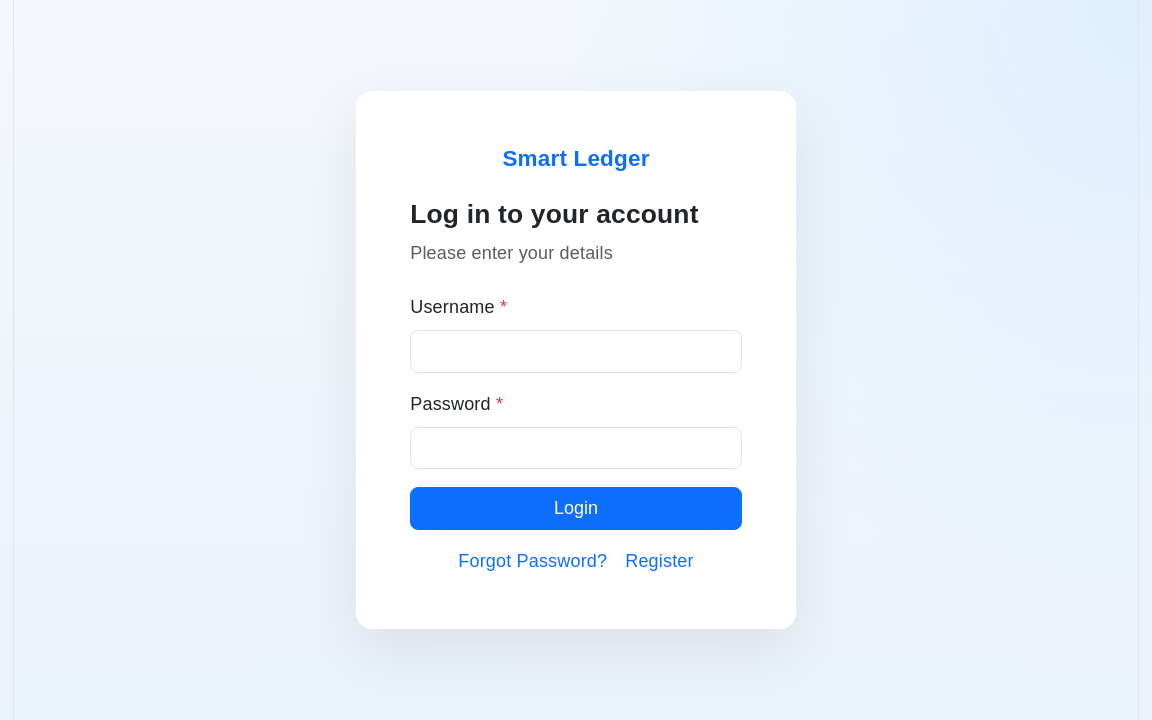
it: Login › shows API error message on failed login
This screenshot has width=1152, height=720.
Type "demo" into the field labelled "Username *" at (576, 351), box [410,330,742,373]
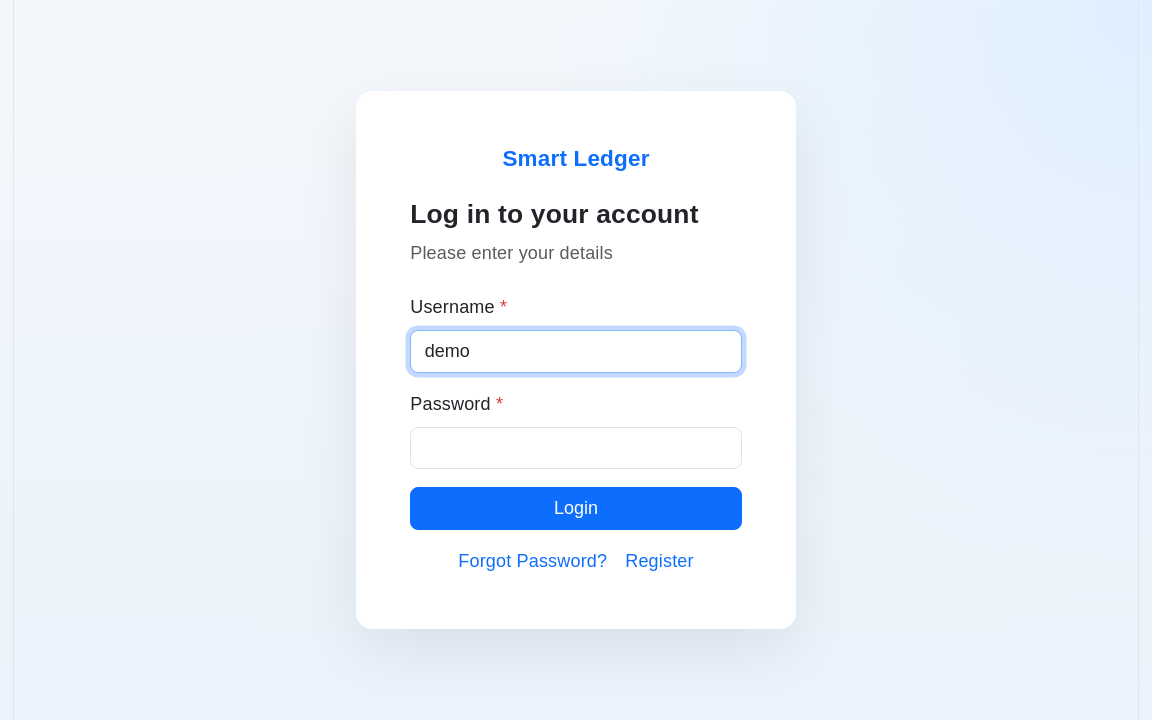
Type "wrong" into the password field labelled "Password *" at (576, 448), box [410,427,742,469]
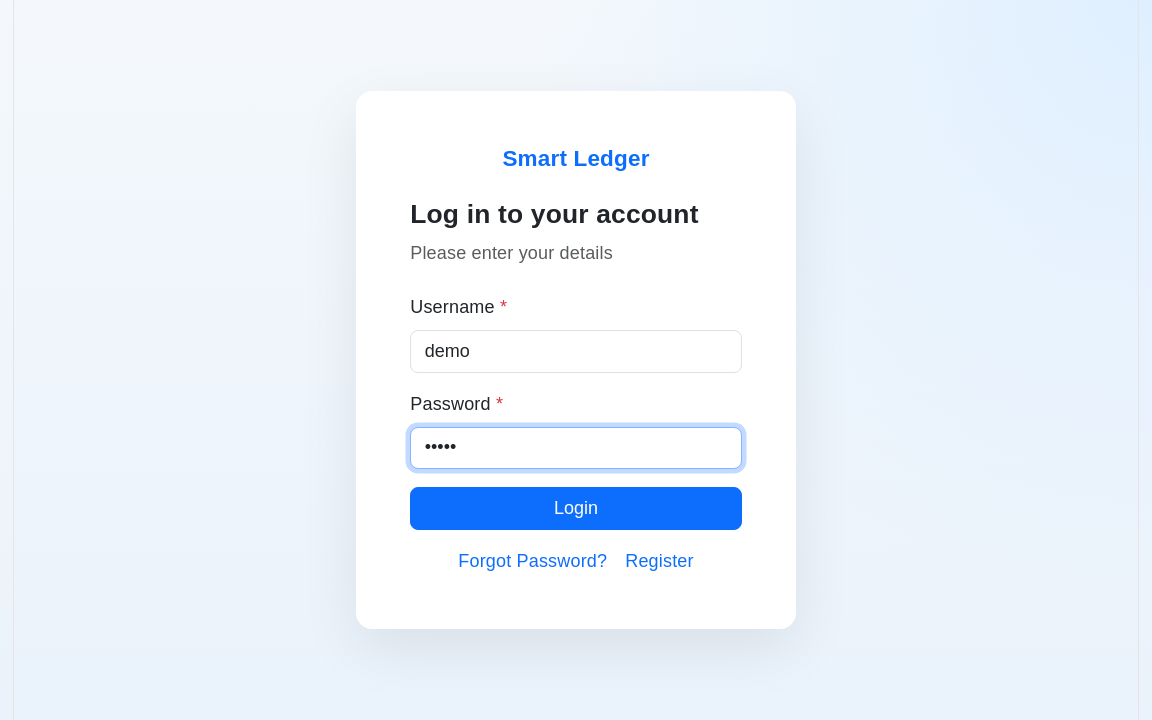
Click the button "Login" at (576, 508), box [410,487,742,530]
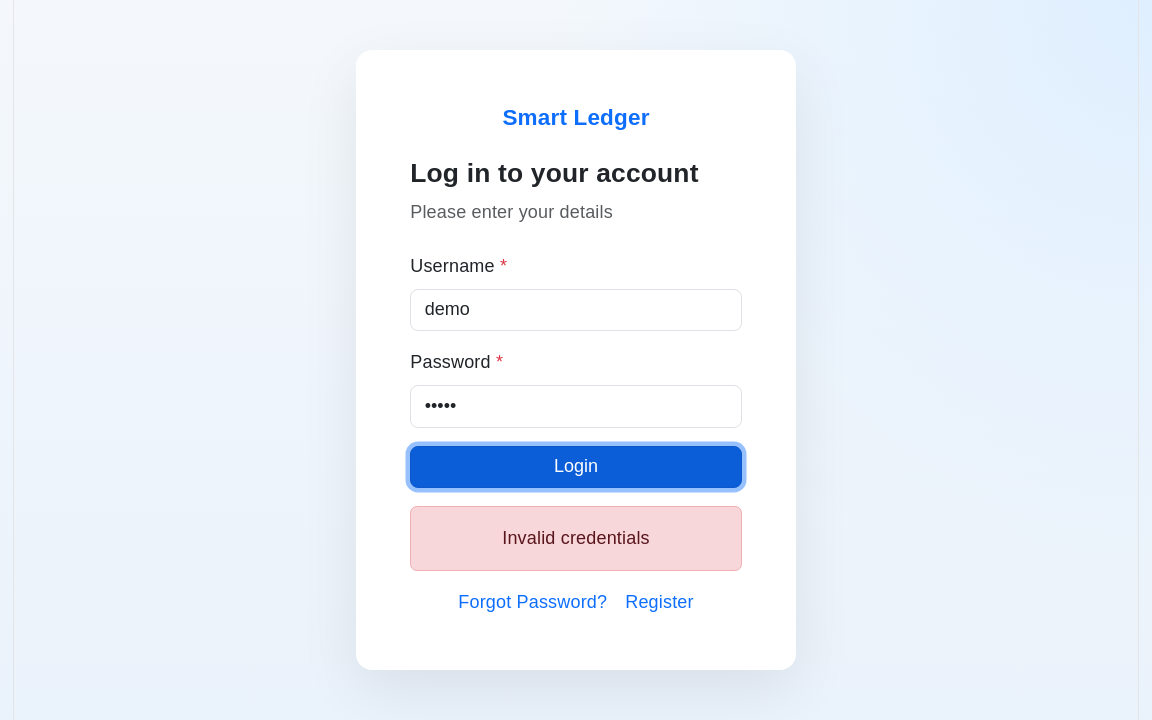
Now the text "Invalid credentials" is shown, box [410,506,742,571]
